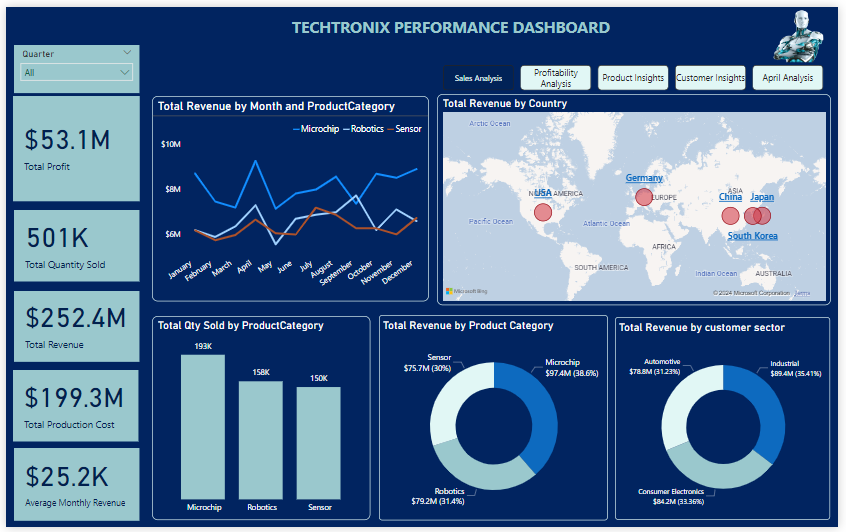

The dashboard page shown, as its layout file describes it:
{"tool":"powerbi","page":{"name":"Sales Analysis","canvas":[1280,800],"ordinal":0},"visuals":[{"type":"cardVisual","fields":{"Data":["Calculated Measures.Total Profit"]},"box":[10.1,137.4,194.9,161.6],"z":0},{"type":"pageNavigator","box":[671.7,89.9,586.9,39.4],"z":1000},{"type":"cardVisual","fields":{"Data":["Calculated Measures.Total Qty Sold"]},"box":[11.9,311.9,192.5,110.4],"z":2000},{"type":"cardVisual","fields":{"Data":["Calculated Measures.Average Monthly Revenue"]},"box":[12.1,677.8,192.9,112.1],"z":3000},{"type":"cardVisual","fields":{"Data":["Calculated Measures.Total sales"]},"box":[11.9,437.3,192.5,109],"z":4000},{"type":"cardVisual","fields":{"Data":["Calculated Measures.Total Production Cost"]},"box":[10.4,558.2,192.5,110.4],"z":5000},{"type":"textbox","box":[144.8,9,1079.1,49.3],"z":6000},{"type":"lineChart","title":"Total Revenue by Month and ProductCategory","fields":{"Y":["Calculated Measures.Total sales"],"Category":["Calendar Dim.Month"],"Series":["Product Dim.ProductCategory"]},"box":[225.3,137.4,426.3,316.2],"z":7000},{"type":"donutChart","title":"Total Revenue by Product Category","fields":{"Y":["Calculated Measures.Total sales"],"Category":["Product Dim.ProductCategory"]},"box":[573.7,473.7,351.5,316.2],"z":8000},{"type":"slicer","fields":{"Values":["Calendar Dim.Quarter"]},"box":[12.1,58.6,192.9,73.7],"z":9000},{"type":"donutChart","title":"Total Revenue by customer sector","fields":{"Y":["Calculated Measures.Total sales"],"Category":["Customer Dim.CustomerSector"]},"box":[937.4,476.8,331.3,312.1],"z":10000},{"type":"clusteredColumnChart","fields":{"Category":["Product Dim.ProductCategory"],"Y":["Calculated Measures.Total Qty Sold"]},"box":[225.3,475.8,336.4,314.1],"z":11000},{"type":"map","title":"Total Revenue by Country","fields":{"Category":["Location Dim.Country"],"Size":["Calculated Measures.Total sales"]},"box":[662.6,134.3,606.1,325.3],"z":12000},{"type":"image","box":[1158.6,0,121.2,89.9],"z":13000}]}

Visuals, with their boxes in screenshot pixels (x1, y1, x2, y2), scaled from the page's 1280x800 canvas onto the 846x532 screenshot:
cardVisual - Calculated Measures.Total Profit: locate(7, 91, 135, 199)
pageNavigator: locate(444, 60, 832, 86)
cardVisual - Calculated Measures.Total Qty Sold: locate(8, 207, 135, 281)
cardVisual - Calculated Measures.Average Monthly Revenue: locate(8, 451, 135, 525)
cardVisual - Calculated Measures.Total sales: locate(8, 291, 135, 363)
cardVisual - Calculated Measures.Total Production Cost: locate(7, 371, 134, 445)
textbox: locate(96, 6, 809, 39)
"Total Revenue by Month and ProductCategory" lineChart: locate(149, 91, 431, 302)
"Total Revenue by Product Category" donutChart: locate(379, 315, 611, 525)
slicer - Calendar Dim.Quarter: locate(8, 39, 135, 88)
"Total Revenue by customer sector" donutChart: locate(620, 317, 839, 525)
clusteredColumnChart - Product Dim.ProductCategory x Calculated Measures.Total Qty Sold: locate(149, 316, 371, 525)
"Total Revenue by Country" map: locate(438, 89, 839, 306)
image: locate(766, 0, 845, 60)
